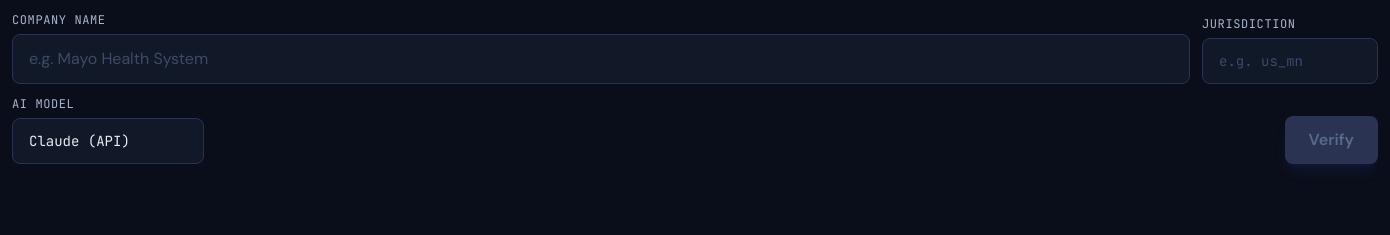
Test: SearchBar › shows generic error for non-Error rejections
The width and height of the screenshot is (1390, 235).
Type "Test Clinic" into the field with placeholder "e.g. Mayo Health System" at (601, 59), box x1=12 y1=34 x2=1190 y2=84
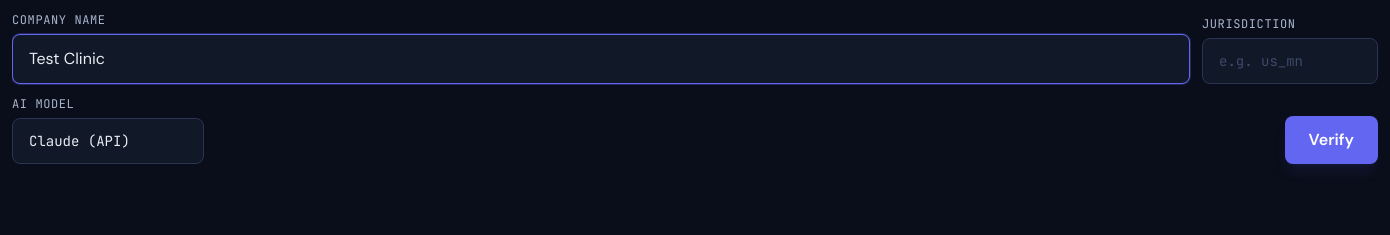
Click the button "Verify" at (1331, 140), box x1=1285 y1=116 x2=1378 y2=164
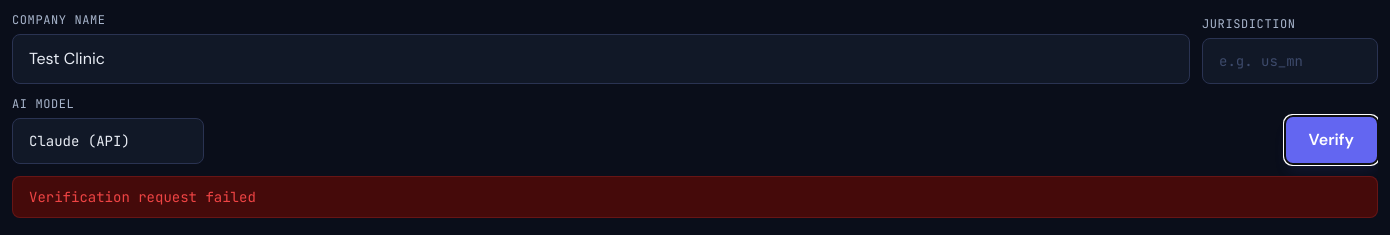
Expected: the text "Verification request failed" is shown, x1=12 y1=176 x2=1378 y2=218
